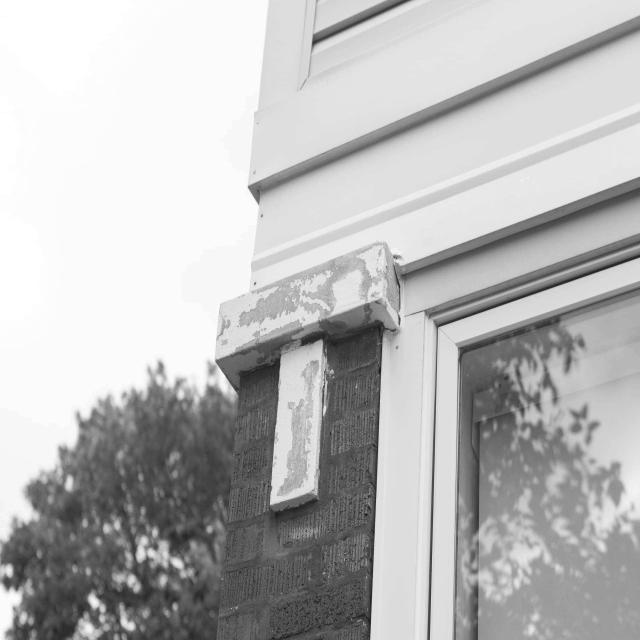peeling paint: (204, 231, 407, 507)
